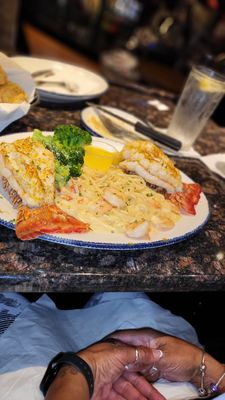curry: (31, 123, 93, 182)
pizza: (164, 63, 225, 154)
sandwich: (83, 103, 181, 153)
sushi: (0, 52, 38, 134)
